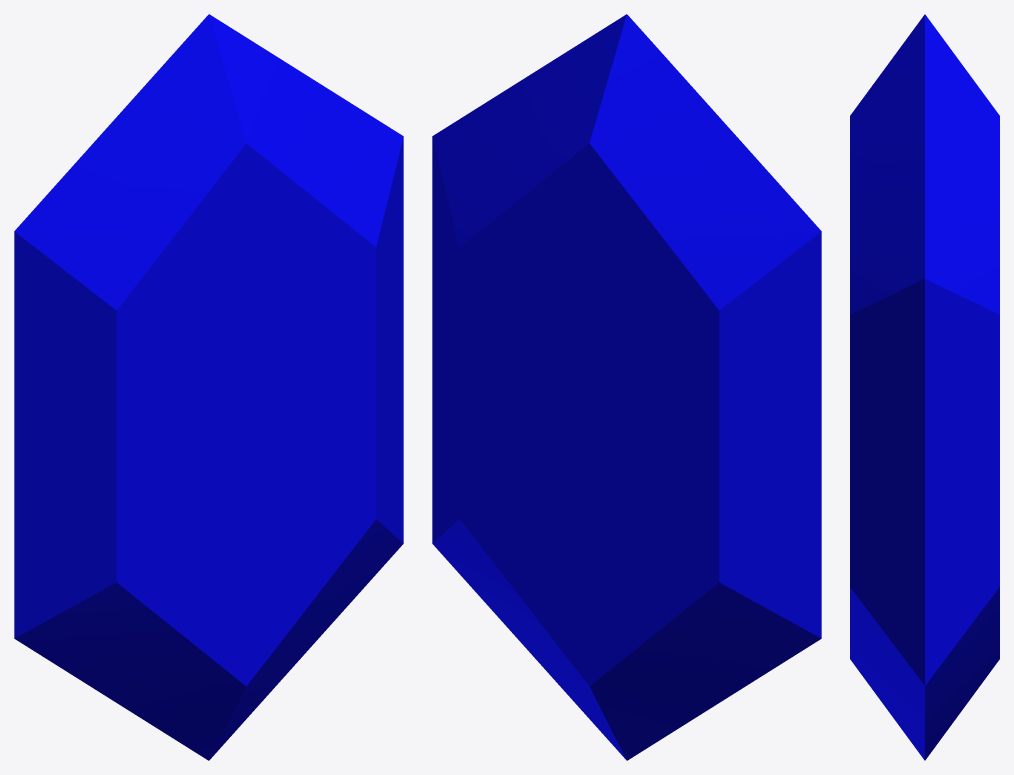
Rendered from Rupee.FBX.
The picture shows the model from 3 angles, left to right: view 1: azimuth 30°, elevation 25°; view 2: azimuth 150°, elevation 25°; view 3: azimuth 270°, elevation 25°; orthographic projection.
Parts seen in each view (by area): view 1: BlueRupeePickup_1; view 2: BlueRupeePickup_1; view 3: BlueRupeePickup_1.
Part boxes in pixels (left/top/right/bottom): BlueRupeePickup_1: left=14, top=14, right=403, bottom=760; BlueRupeePickup_1: left=432, top=14, right=821, bottom=760; BlueRupeePickup_1: left=850, top=14, right=999, bottom=760.
Bounding box in the file's own units: 0.5554 × 1.02 × 0.1851.
